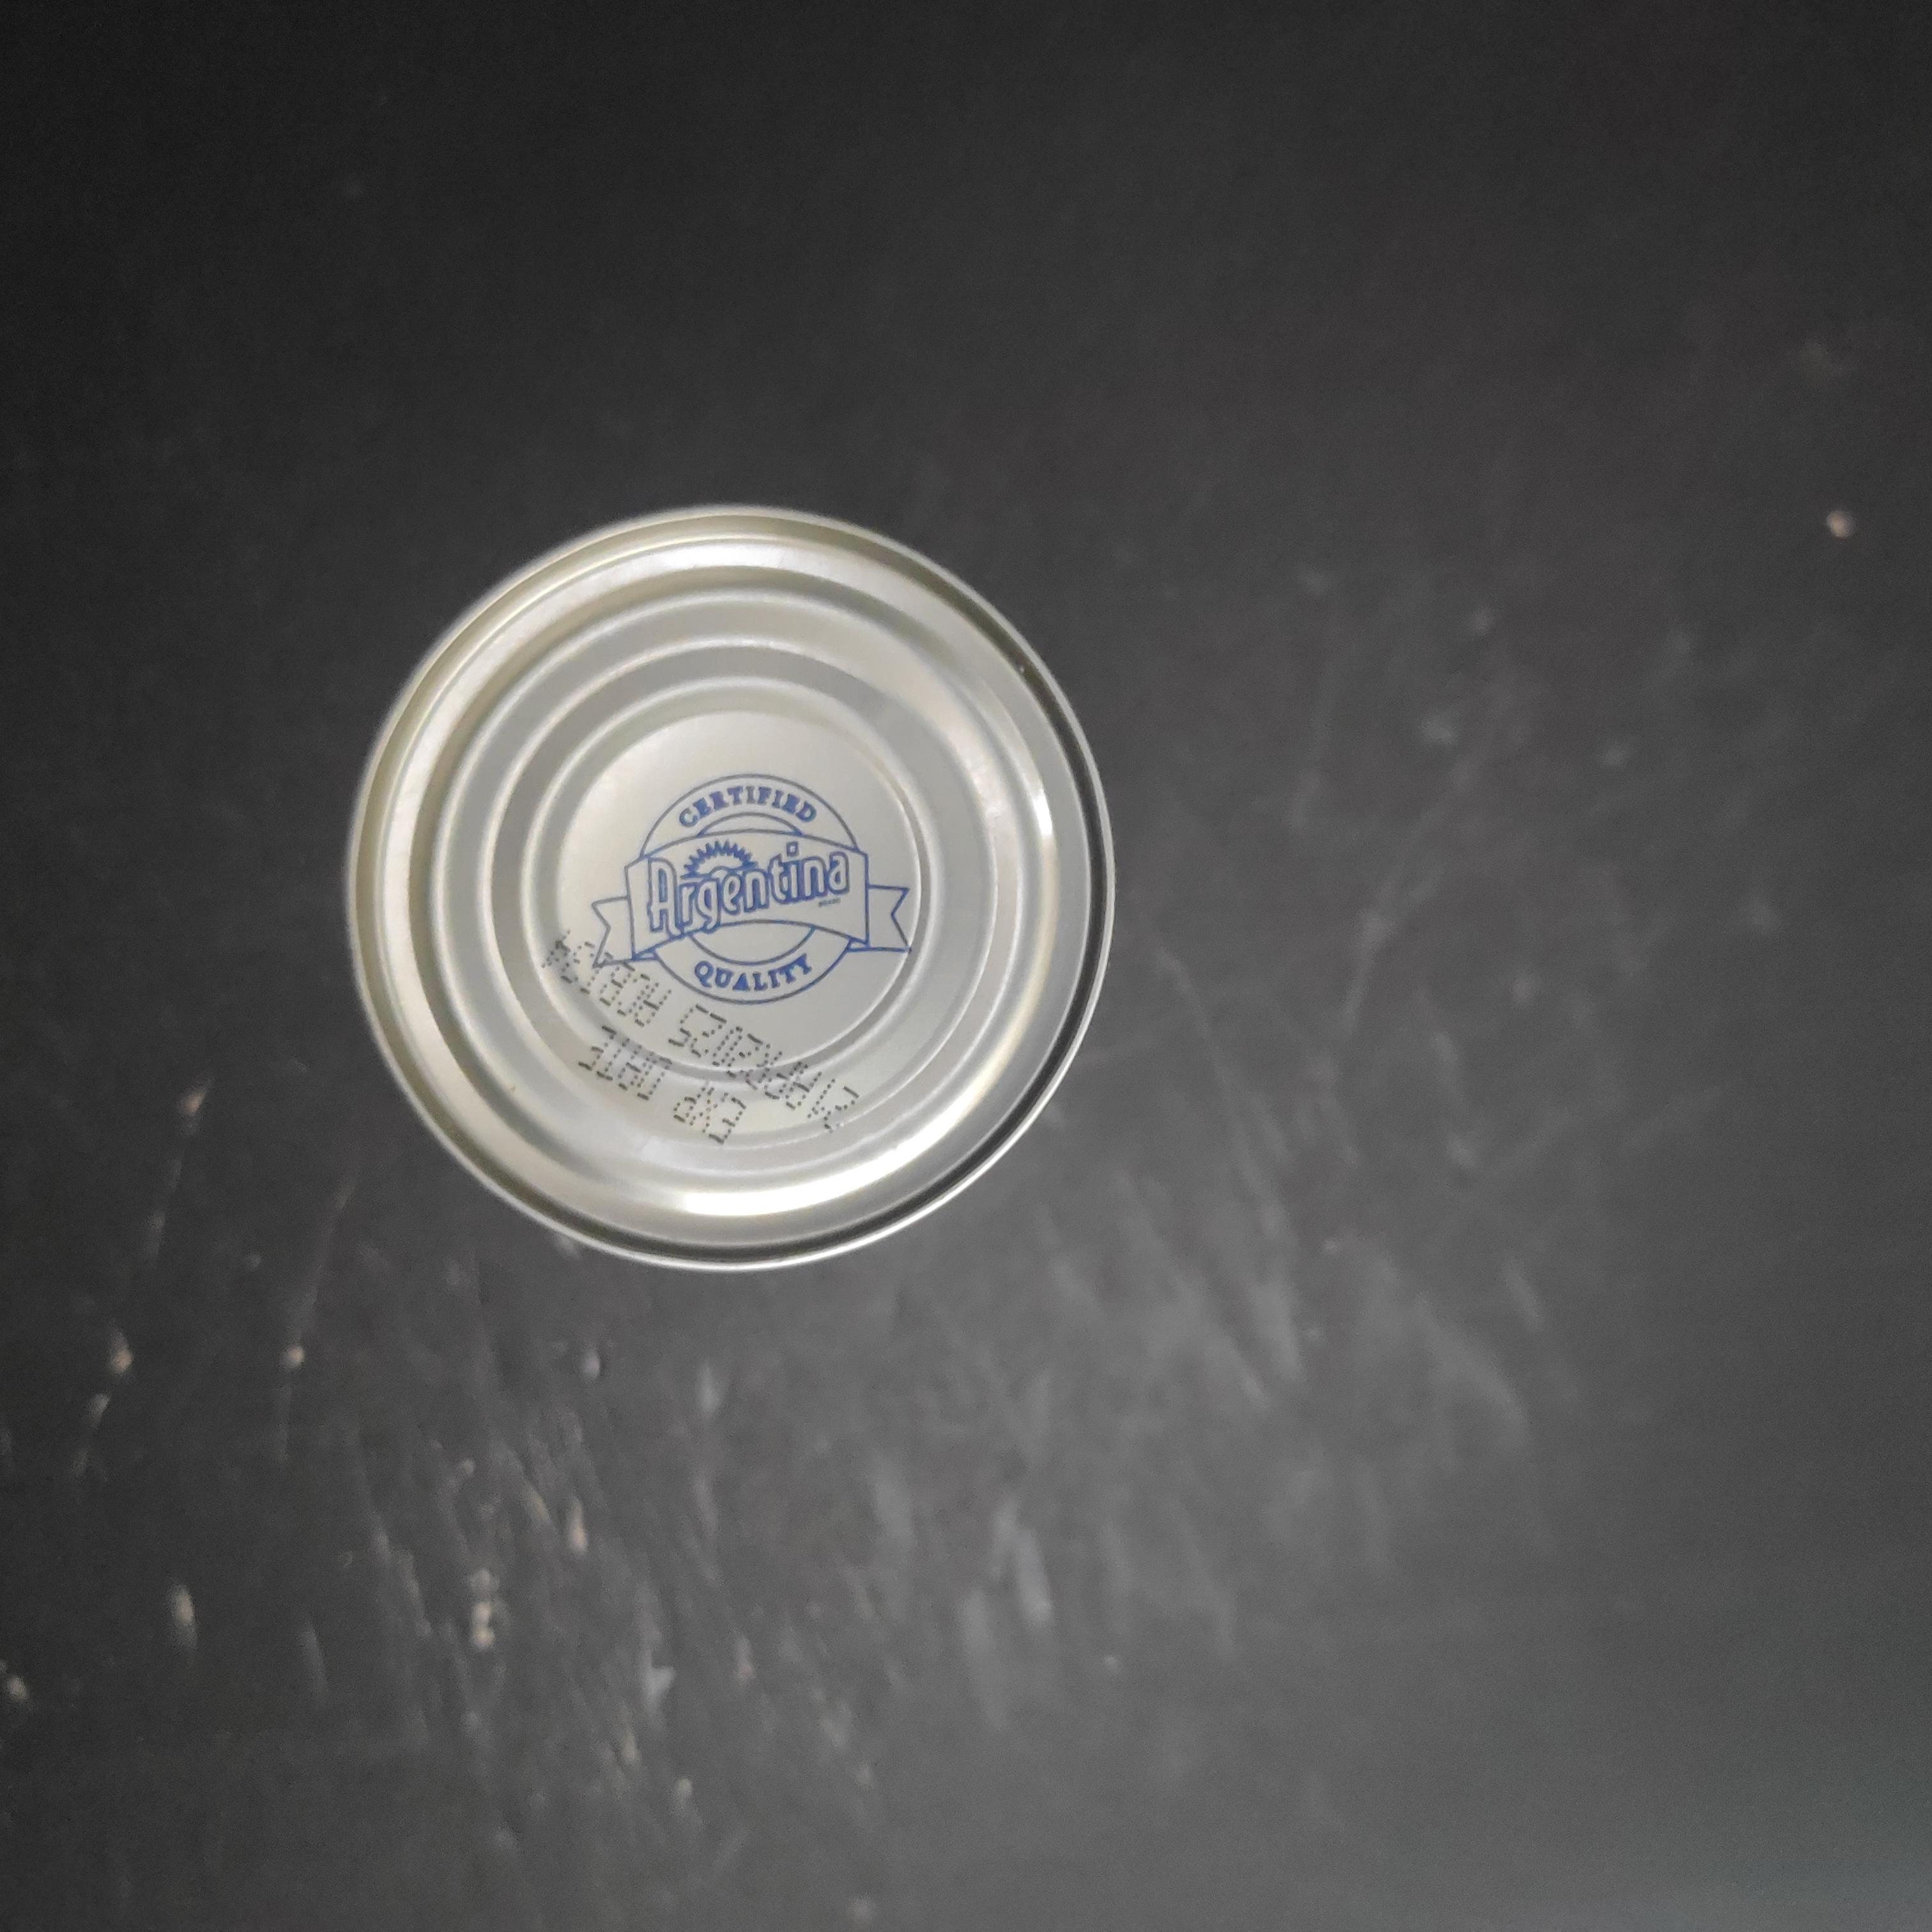No defect: (341, 502, 1120, 1277)
